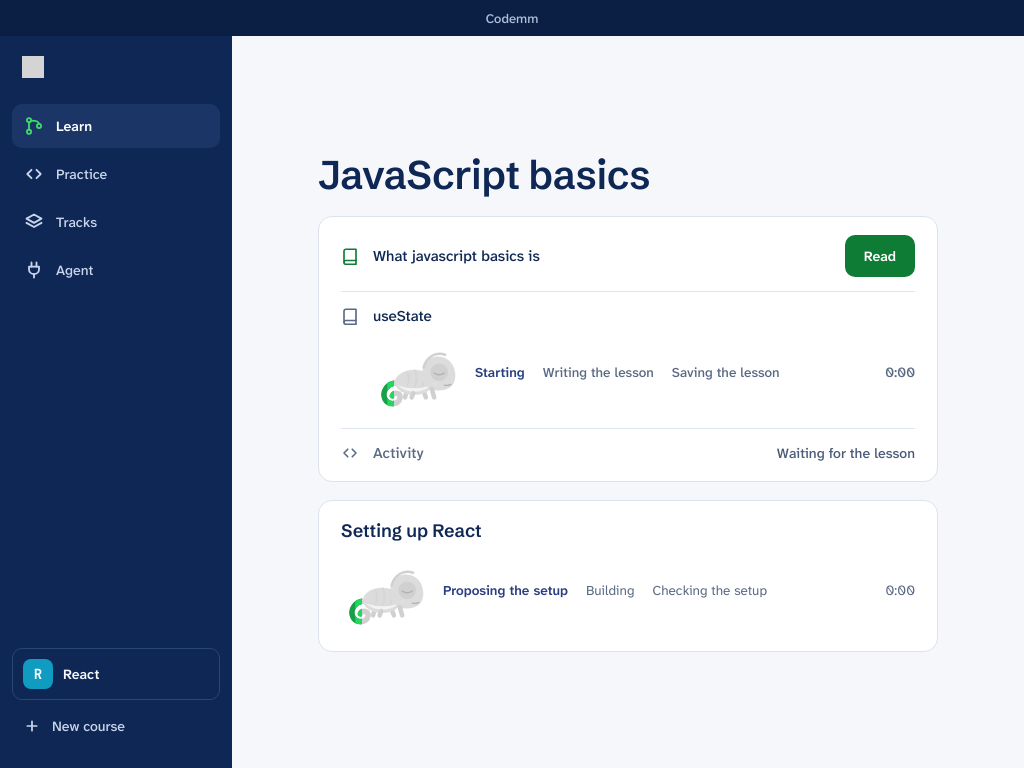
running jobs in the sidebar (§4.11) › keeps a track's setup in view after the learner leaves the topic page, and opens it again
Expected: the element named "Setting up React" is shown, [341,556,915,631]
Click the button "Tracks" at [116, 222], box [12,200,220,244]
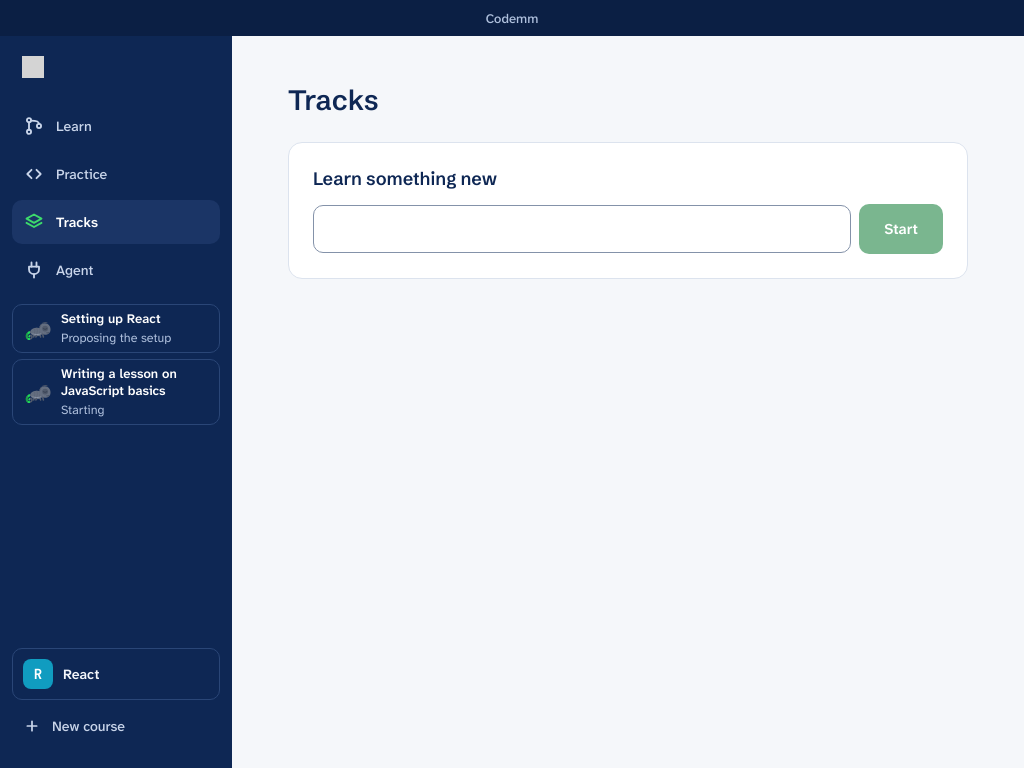
Click the button with aria-label "Setting up React, Proposing the setup" at [116, 329], box [12,304,220,353]
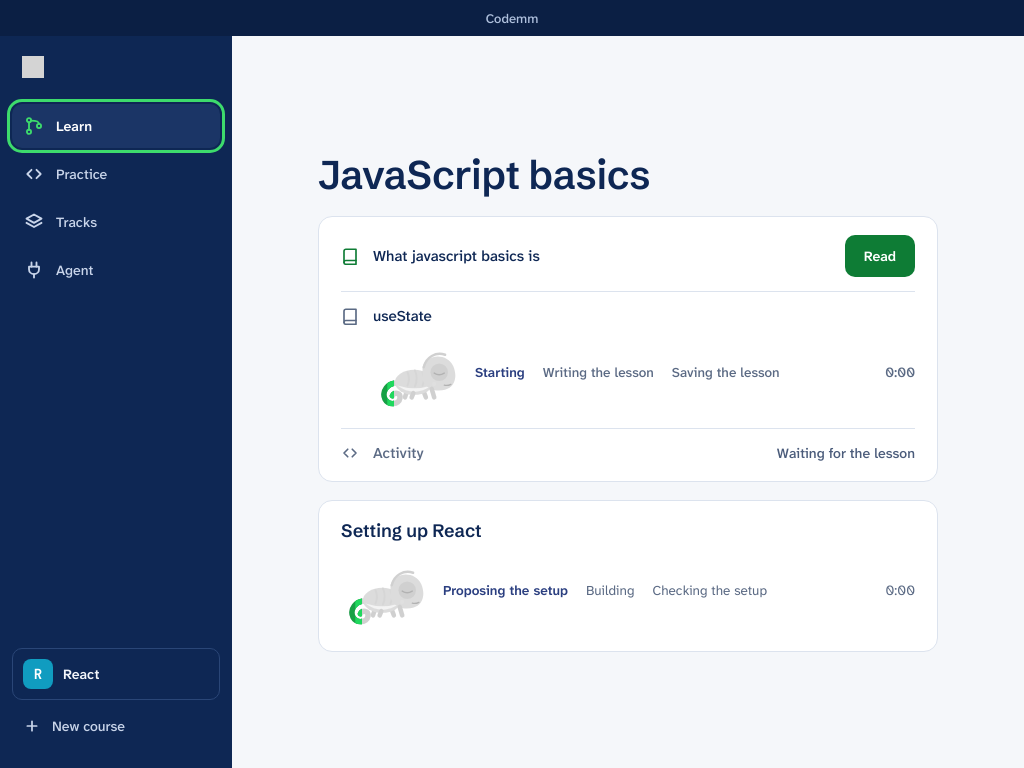
Result: the heading "JavaScript basics" is shown at [318,150,650,199]
Result: the element named "Setting up React" is shown at [341,556,915,631]
